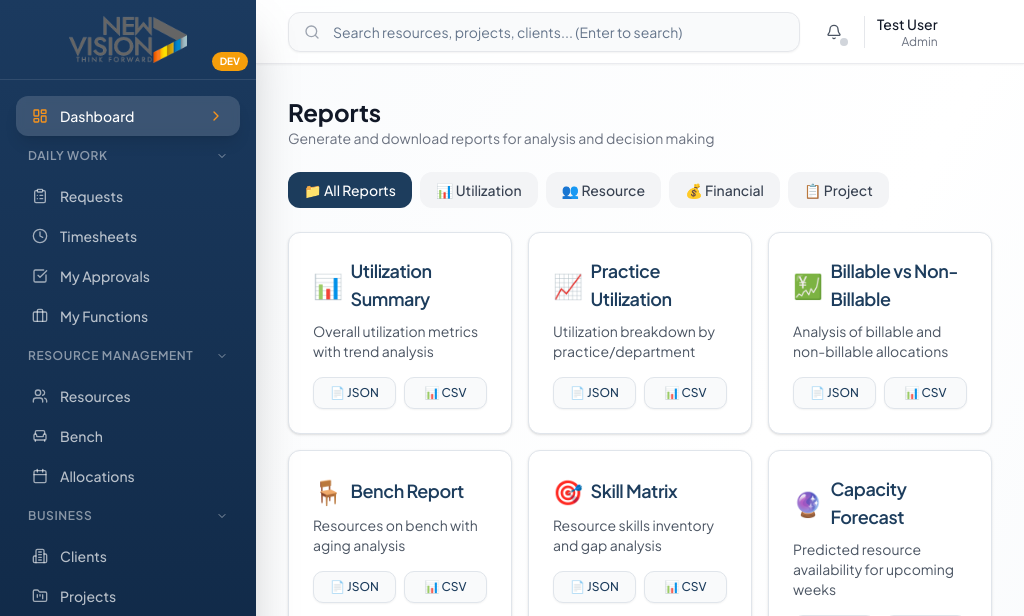
it: ReportsPage › Category Filtering › returns to All Reports when clicked again
The image size is (1024, 616).
# First filter
Click the button "📊 Utilization". click: (479, 190)
box: 420,172 -> 538,208
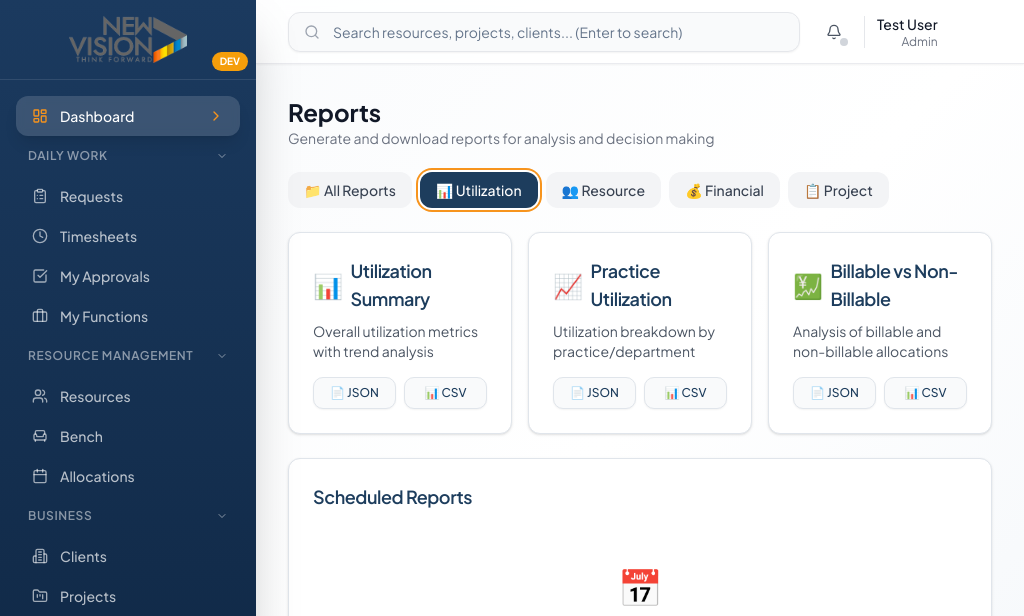
# Then back to all
Click the button "📁 All Reports". click: (350, 190)
box: 288,172 -> 412,208
(page scrolled)
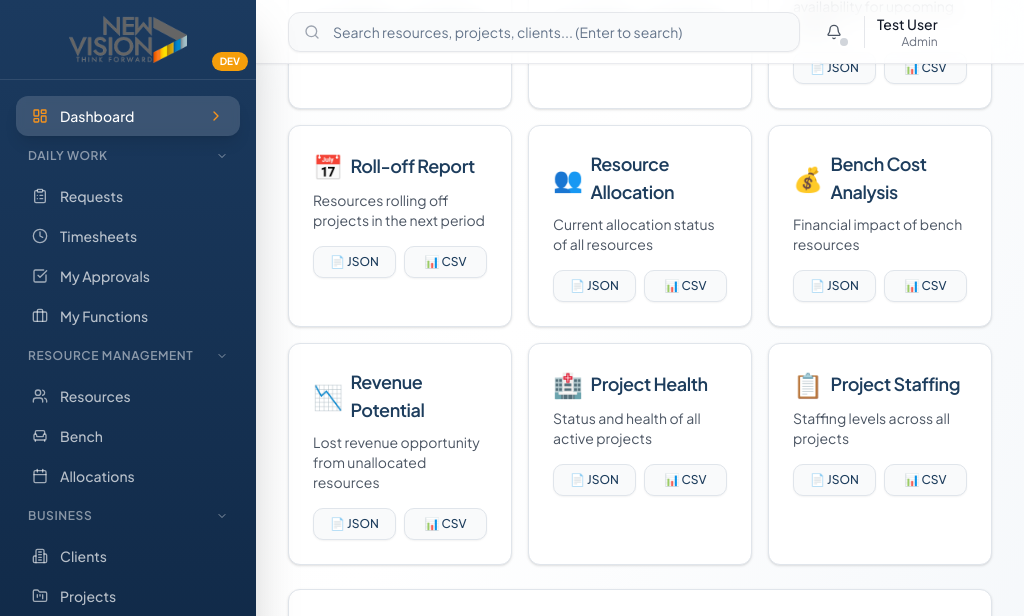
Expected: the heading "🏥 Project Health" is shown, 553,368 -> 727,400
